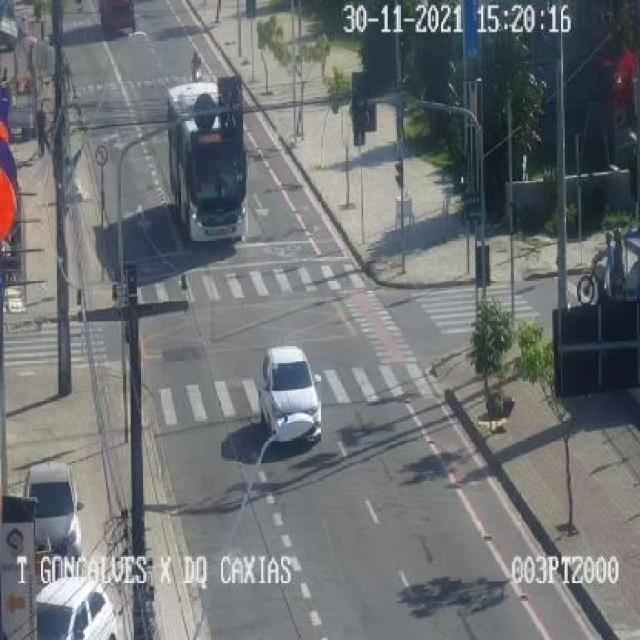Bus: (152, 65, 279, 268)
Car: (245, 335, 340, 447)
